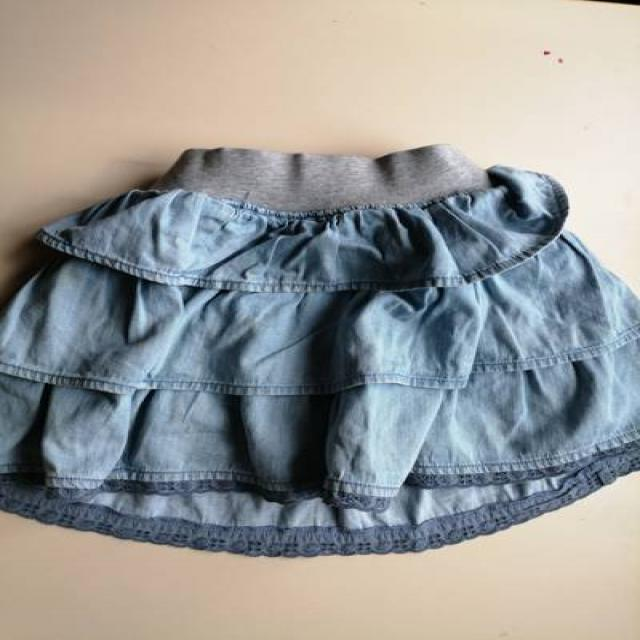Clothes -Biodegradable-: (0, 142, 639, 556)
